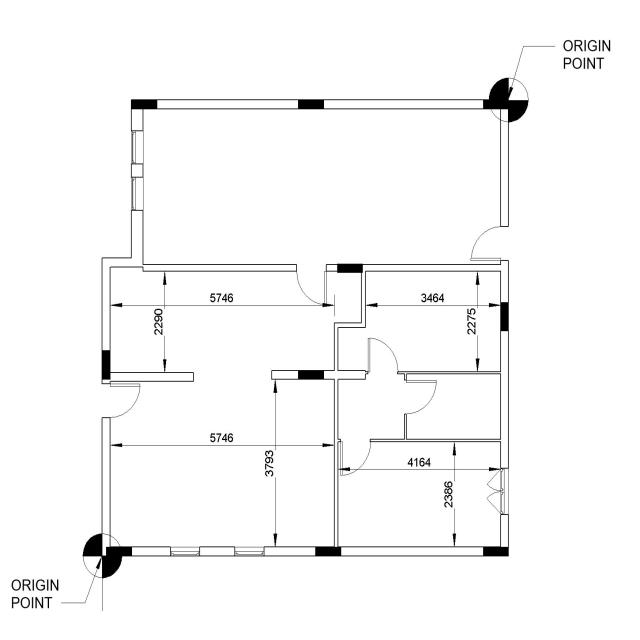Column: (296, 99, 326, 110), (101, 349, 111, 380), (297, 368, 325, 379), (482, 99, 510, 110), (337, 263, 363, 274), (483, 545, 509, 556), (130, 99, 158, 109), (315, 546, 342, 556), (500, 302, 509, 331), (106, 547, 132, 556)
Door: (293, 262, 329, 311), (468, 222, 507, 263), (106, 381, 144, 421), (405, 376, 441, 416), (363, 338, 402, 374), (339, 437, 373, 477)
Window: (485, 467, 509, 517), (128, 129, 147, 165), (129, 175, 146, 213), (233, 544, 267, 559), (169, 545, 202, 558)
